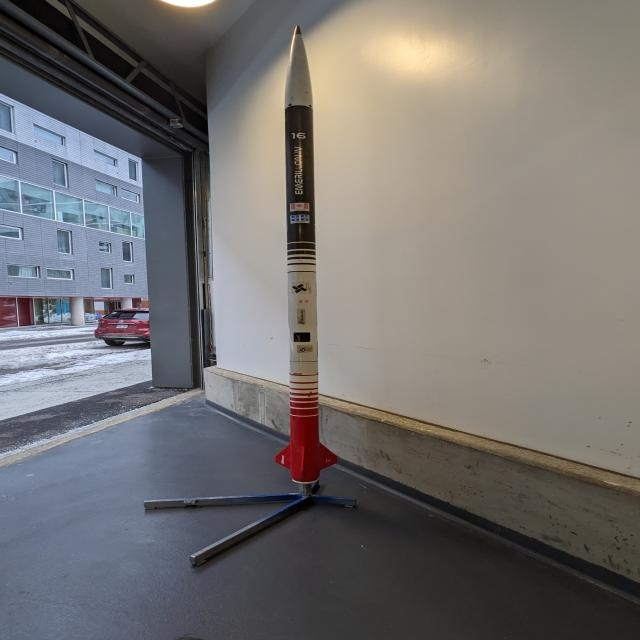Rocket: (275, 26, 337, 484)
